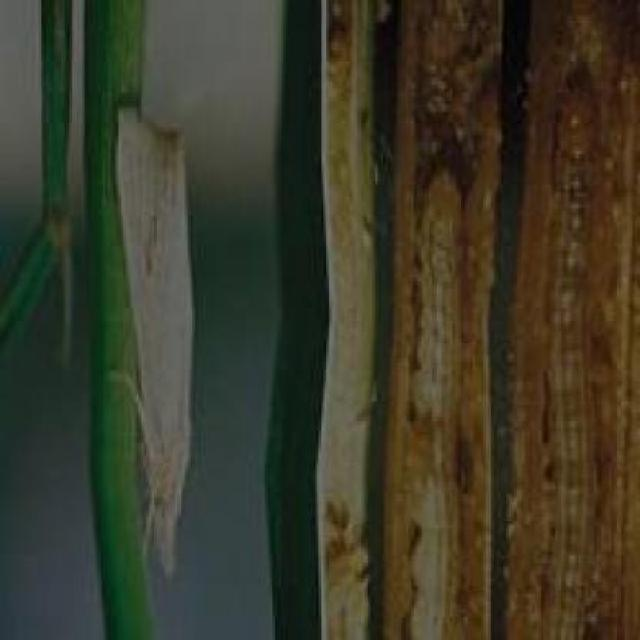stem-borer: (104, 98, 198, 580)
